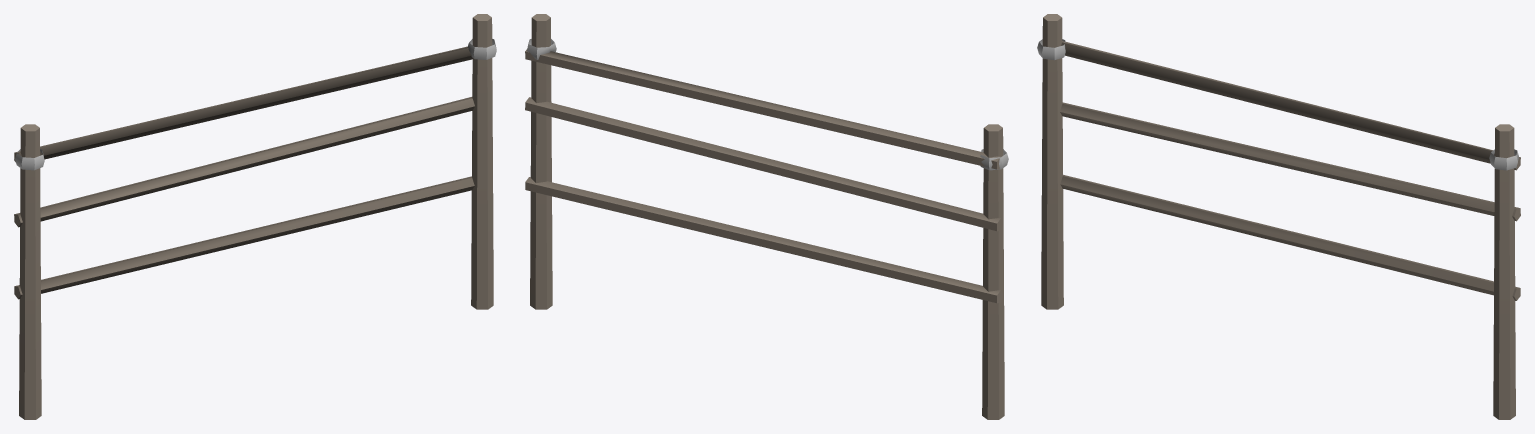
File: valla.glb
3 renders of one model, left to right at view 1: azimuth 30°, elevation 25°; view 2: azimuth 150°, elevation 25°; view 3: azimuth 330°, elevation 25°, orthographic.
Visible parts, largest first — view 1: valla; view 2: valla; view 3: valla.
Boxes of the visible parts, x1=… form: valla: x1=14, y1=14, x2=496, y2=419; valla: x1=525, y1=14, x2=1008, y2=419; valla: x1=1037, y1=14, x2=1520, y2=419.
Bounding box in the file's own units: 2.43 × 1.4 × 0.1326.
